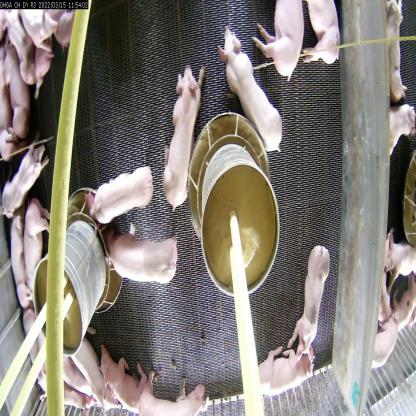Pig: (215, 20, 286, 154), (163, 58, 206, 211), (286, 240, 332, 352), (106, 217, 178, 286), (85, 161, 158, 225), (252, 0, 305, 84), (1, 137, 49, 220), (139, 364, 208, 416), (98, 338, 147, 410), (254, 340, 315, 396), (8, 207, 36, 306), (25, 194, 51, 299), (304, 0, 342, 70), (384, 223, 416, 296)
